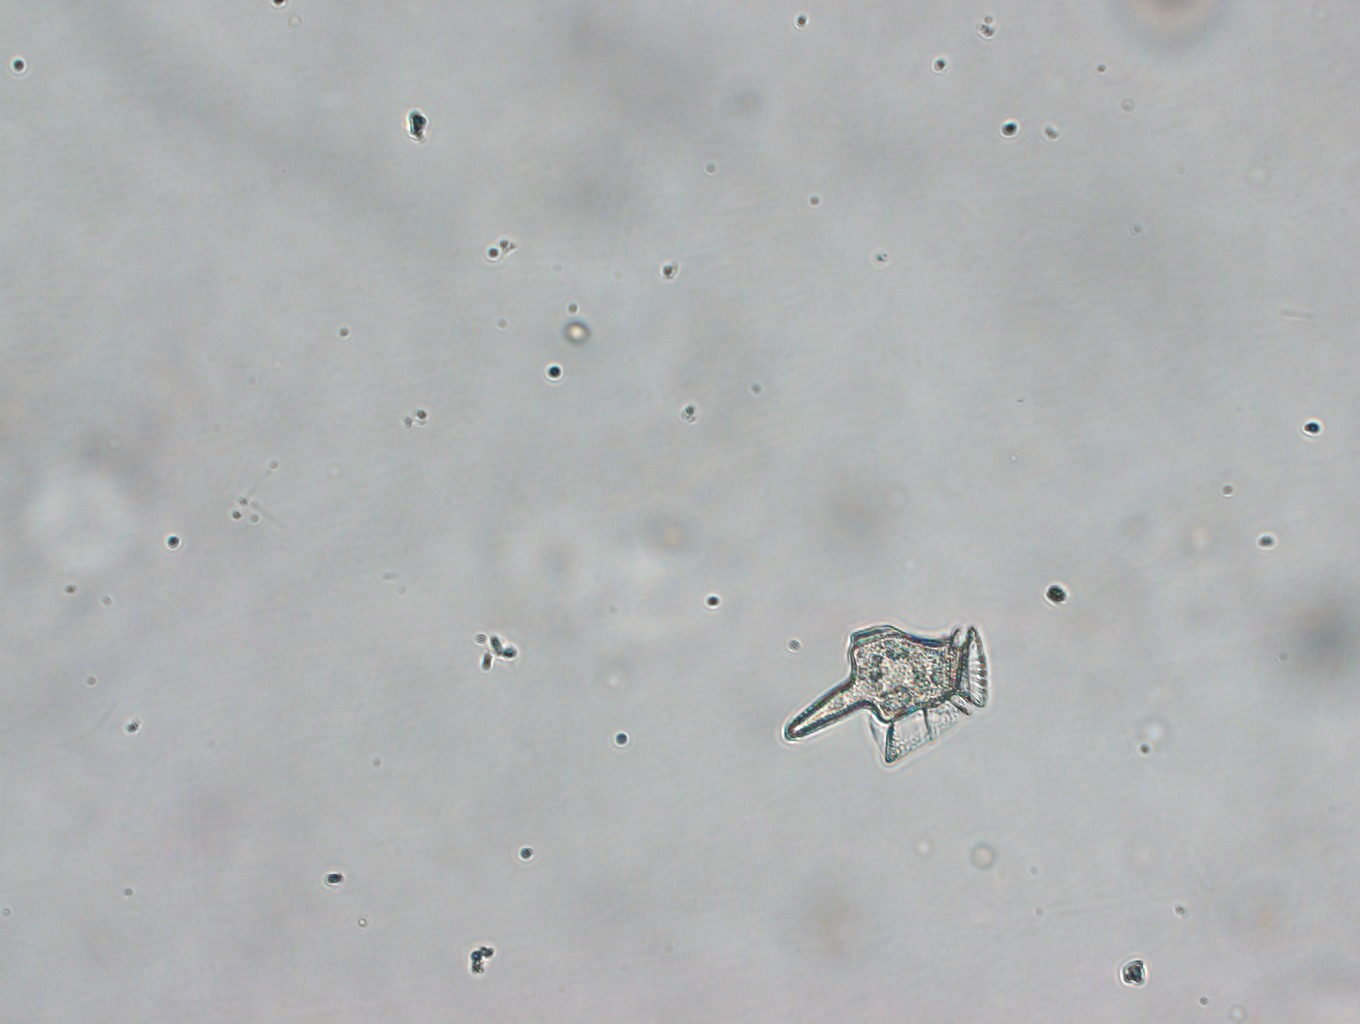dinophysis caudata: (772, 612, 1004, 784)
